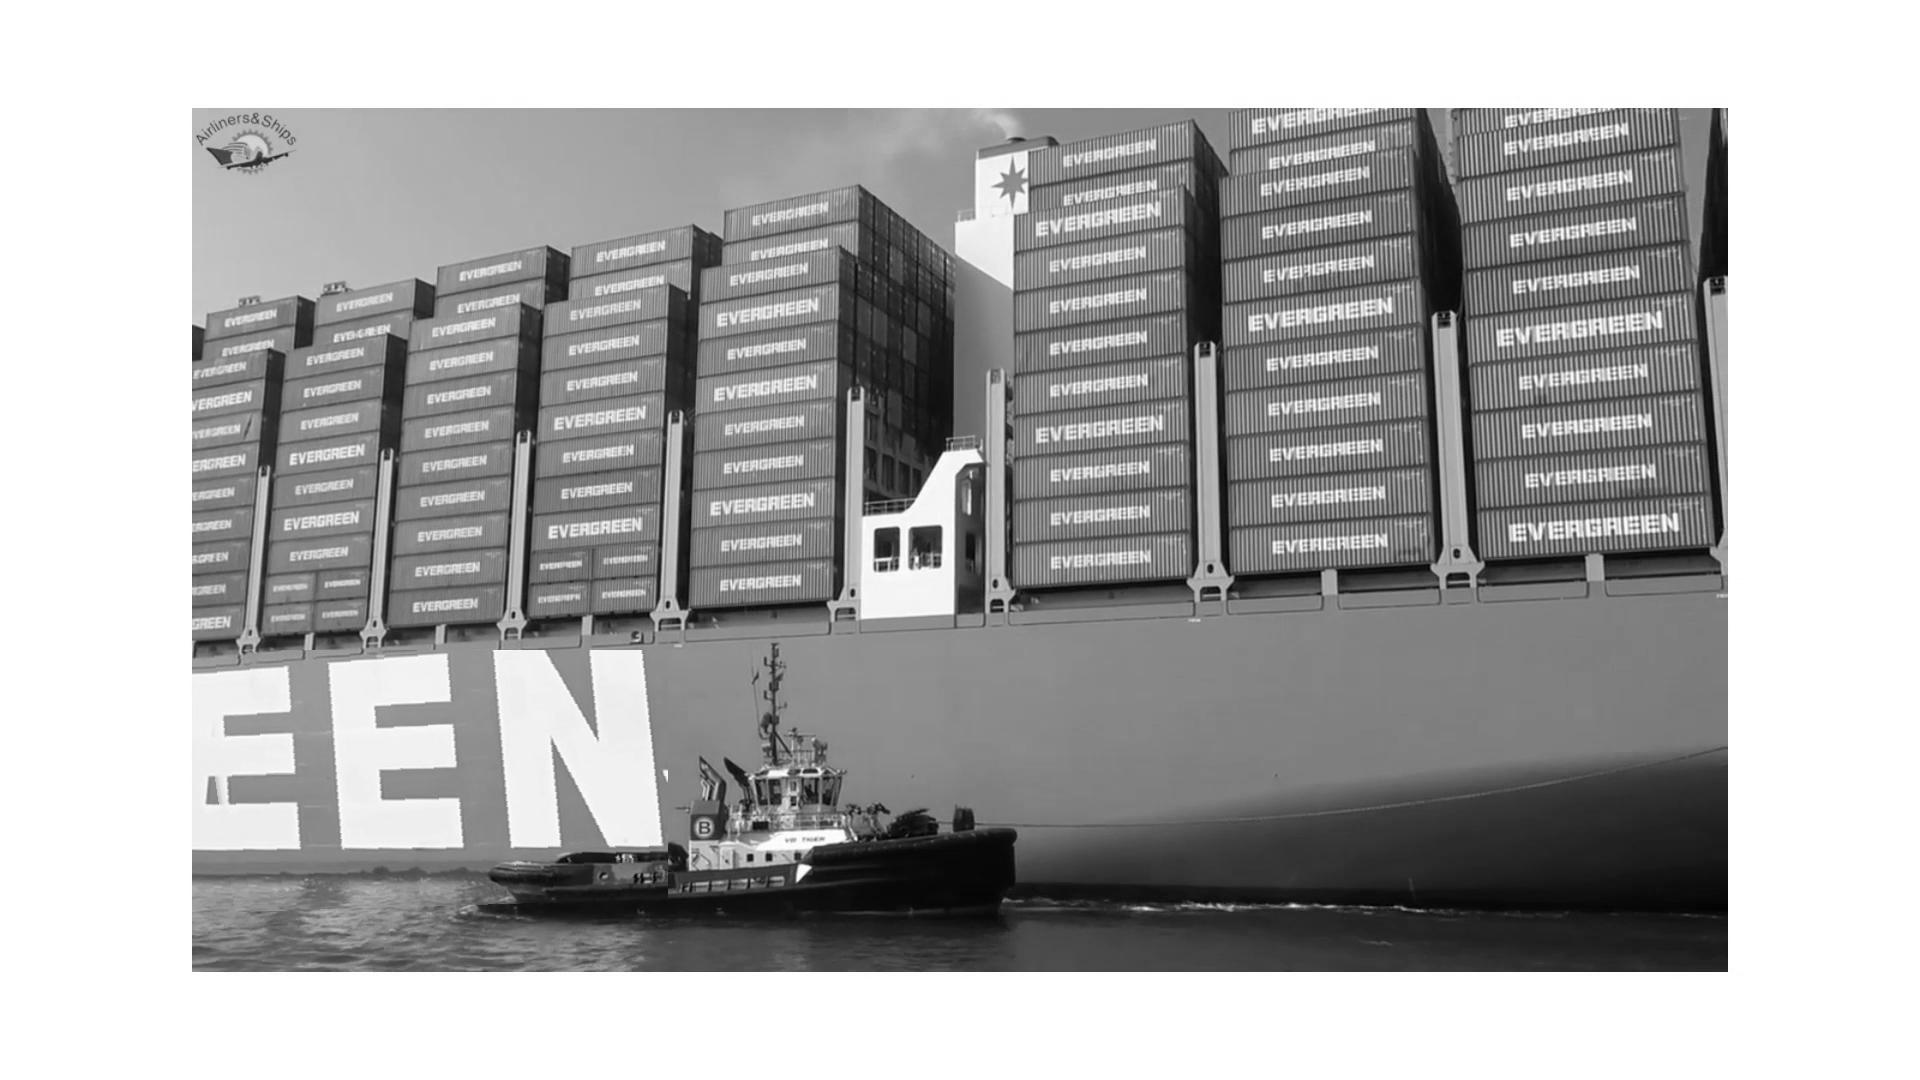OCR: (196, 650, 669, 913)
